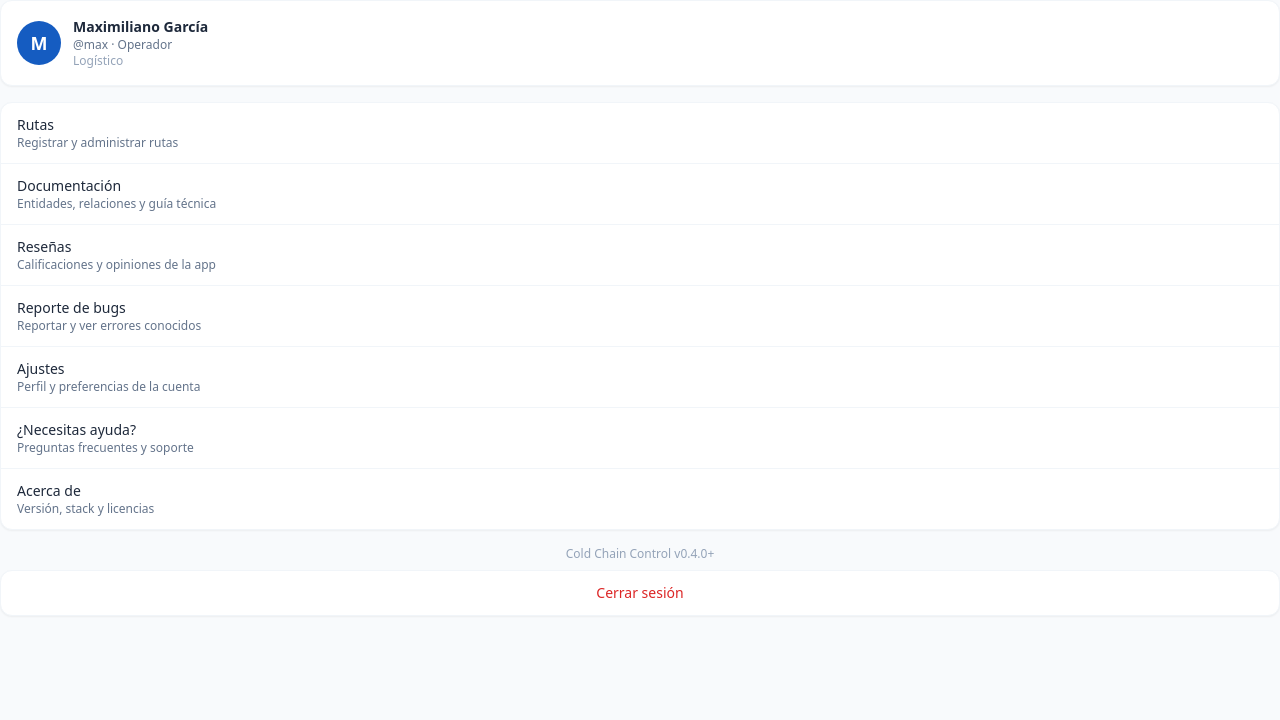
More page › closes logout modal on Cancelar click
Click the button "Cerrar sesión" at (640, 593), box x1=0 y1=570 x2=1279 y2=616
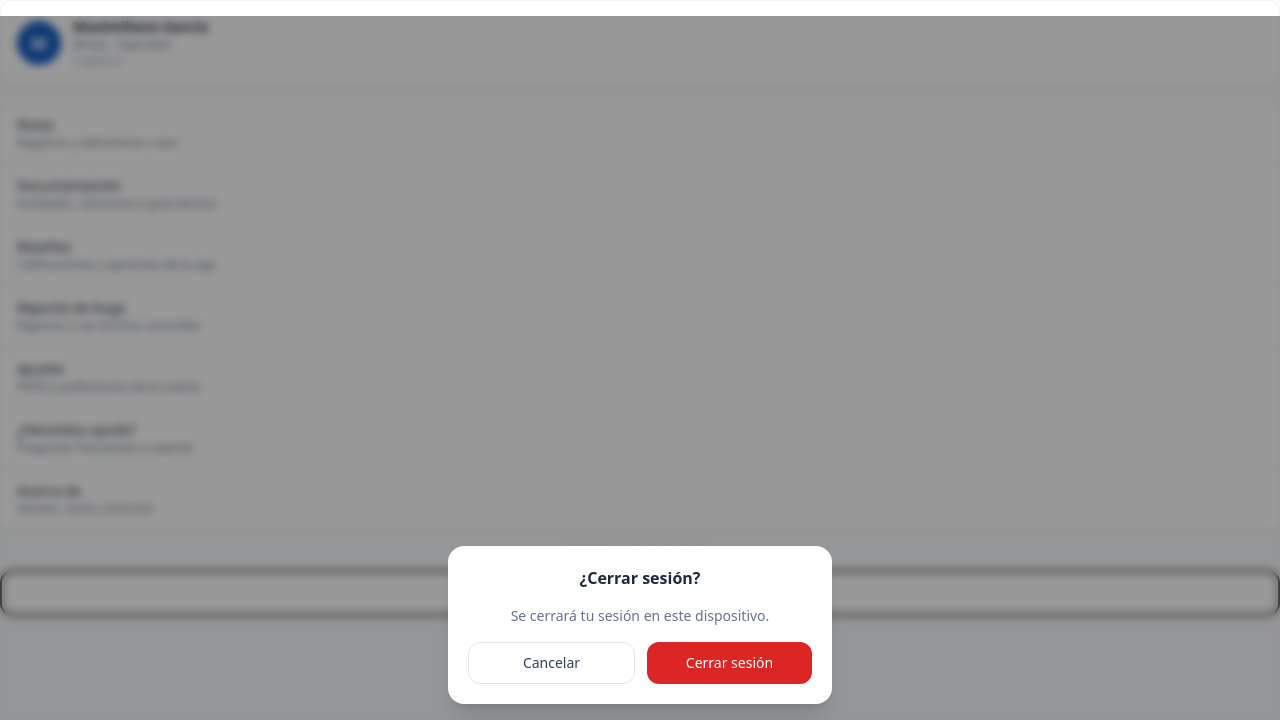
Result: the text "¿Cerrar sesión?" is shown at x1=580 y1=567 x2=700 y2=589
Click the button "Cancelar" at (552, 663), box x1=468 y1=642 x2=635 y2=684
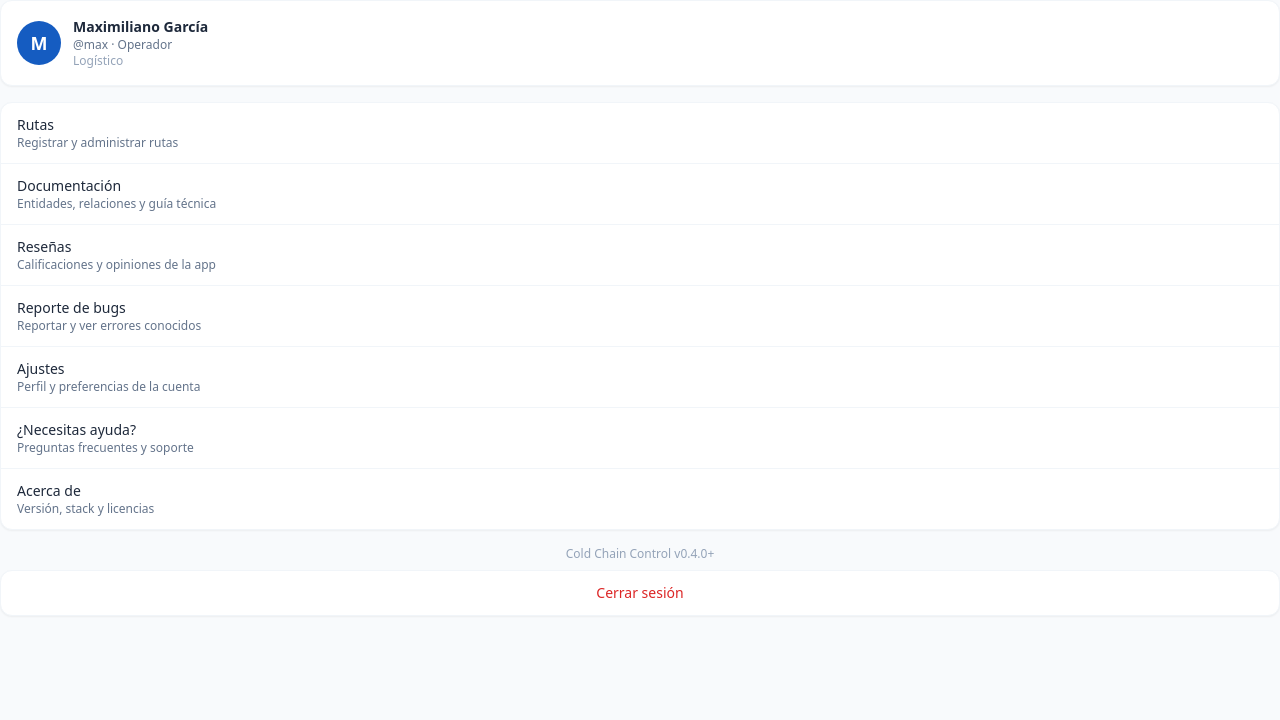
Result: the text "¿Cerrar sesión?" is gone
